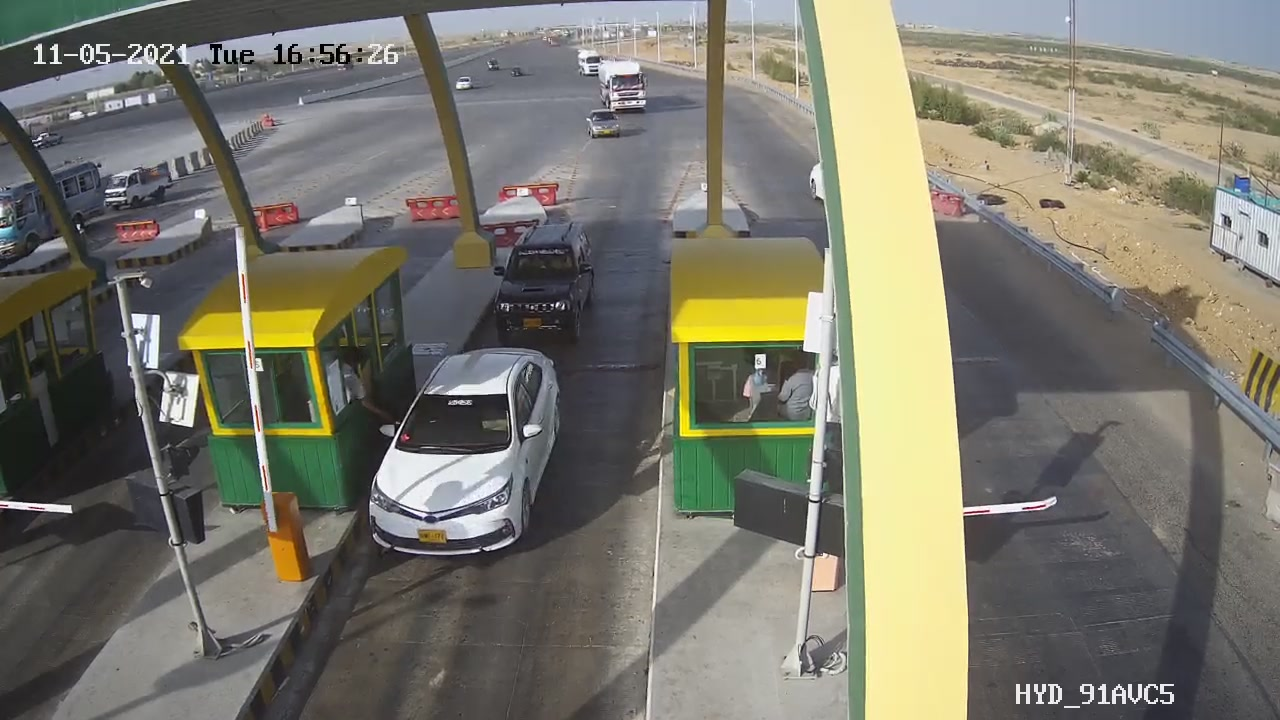F1: (354, 332, 579, 569), (479, 208, 615, 349)
